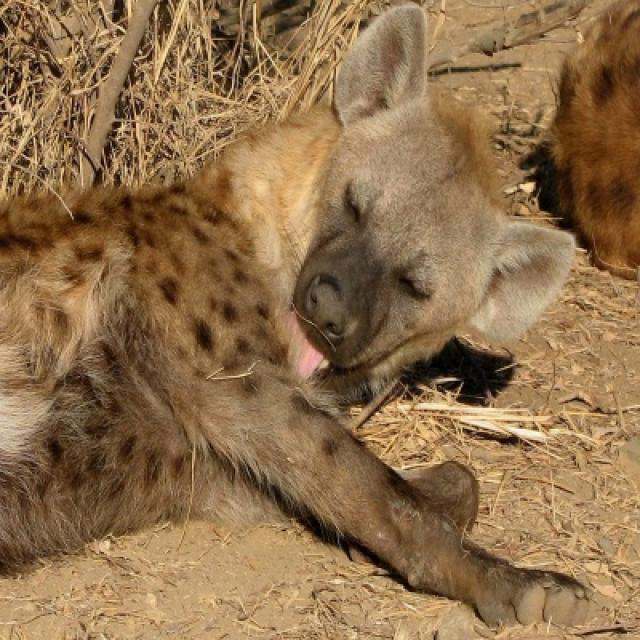hyena: (0, 6, 595, 629)
